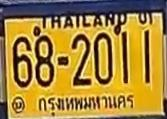0: (93, 32, 112, 84)
1: (144, 30, 150, 80), (121, 32, 127, 82)
2: (71, 34, 91, 86)
6: (12, 36, 31, 87)
8: (34, 35, 53, 86)
BKK: (33, 90, 137, 115)
